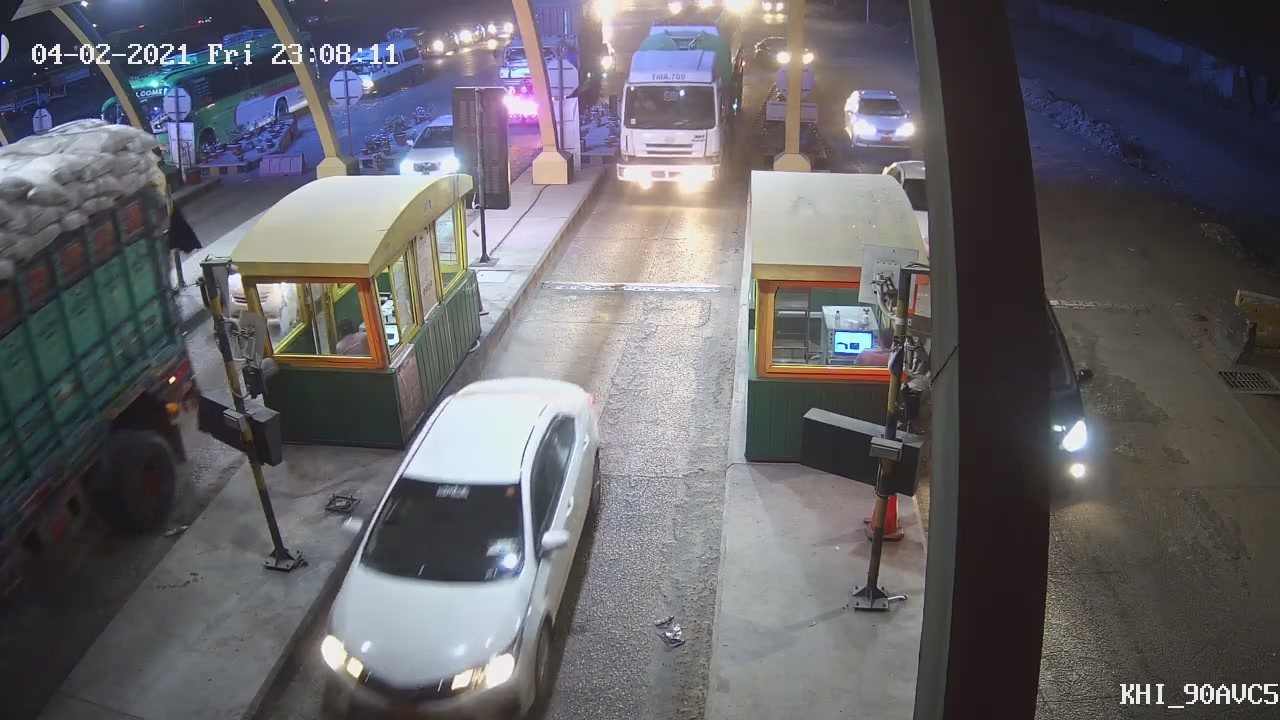F6: (602, 35, 736, 202)
